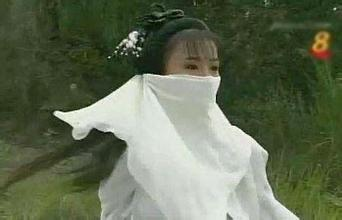OK: (160, 57, 221, 113)
